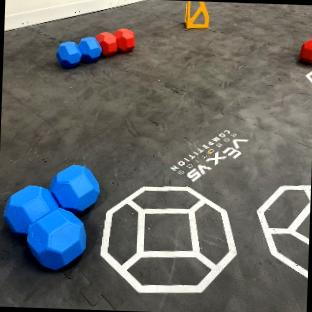V5_BLUE: (4, 165, 100, 268), (28, 207, 85, 267)
V5_RED: (113, 29, 134, 51), (97, 32, 117, 55), (300, 38, 312, 64)
